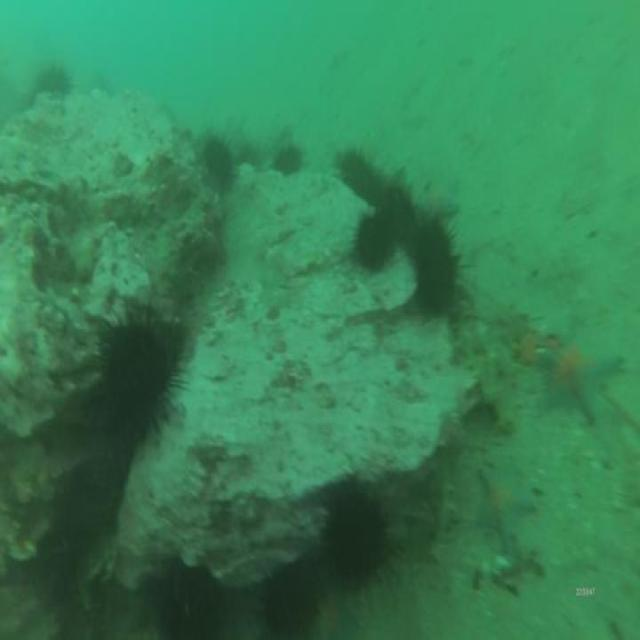echinus: (101, 328, 172, 434), (329, 488, 384, 576), (417, 224, 459, 313), (166, 566, 220, 635), (268, 572, 314, 640), (381, 185, 417, 234), (358, 218, 391, 269), (206, 136, 230, 186), (345, 156, 376, 194), (278, 146, 297, 176)
holothurian: (456, 302, 518, 422)
starfish: (543, 330, 612, 422), (474, 466, 532, 542), (424, 176, 459, 220), (511, 328, 549, 366)
